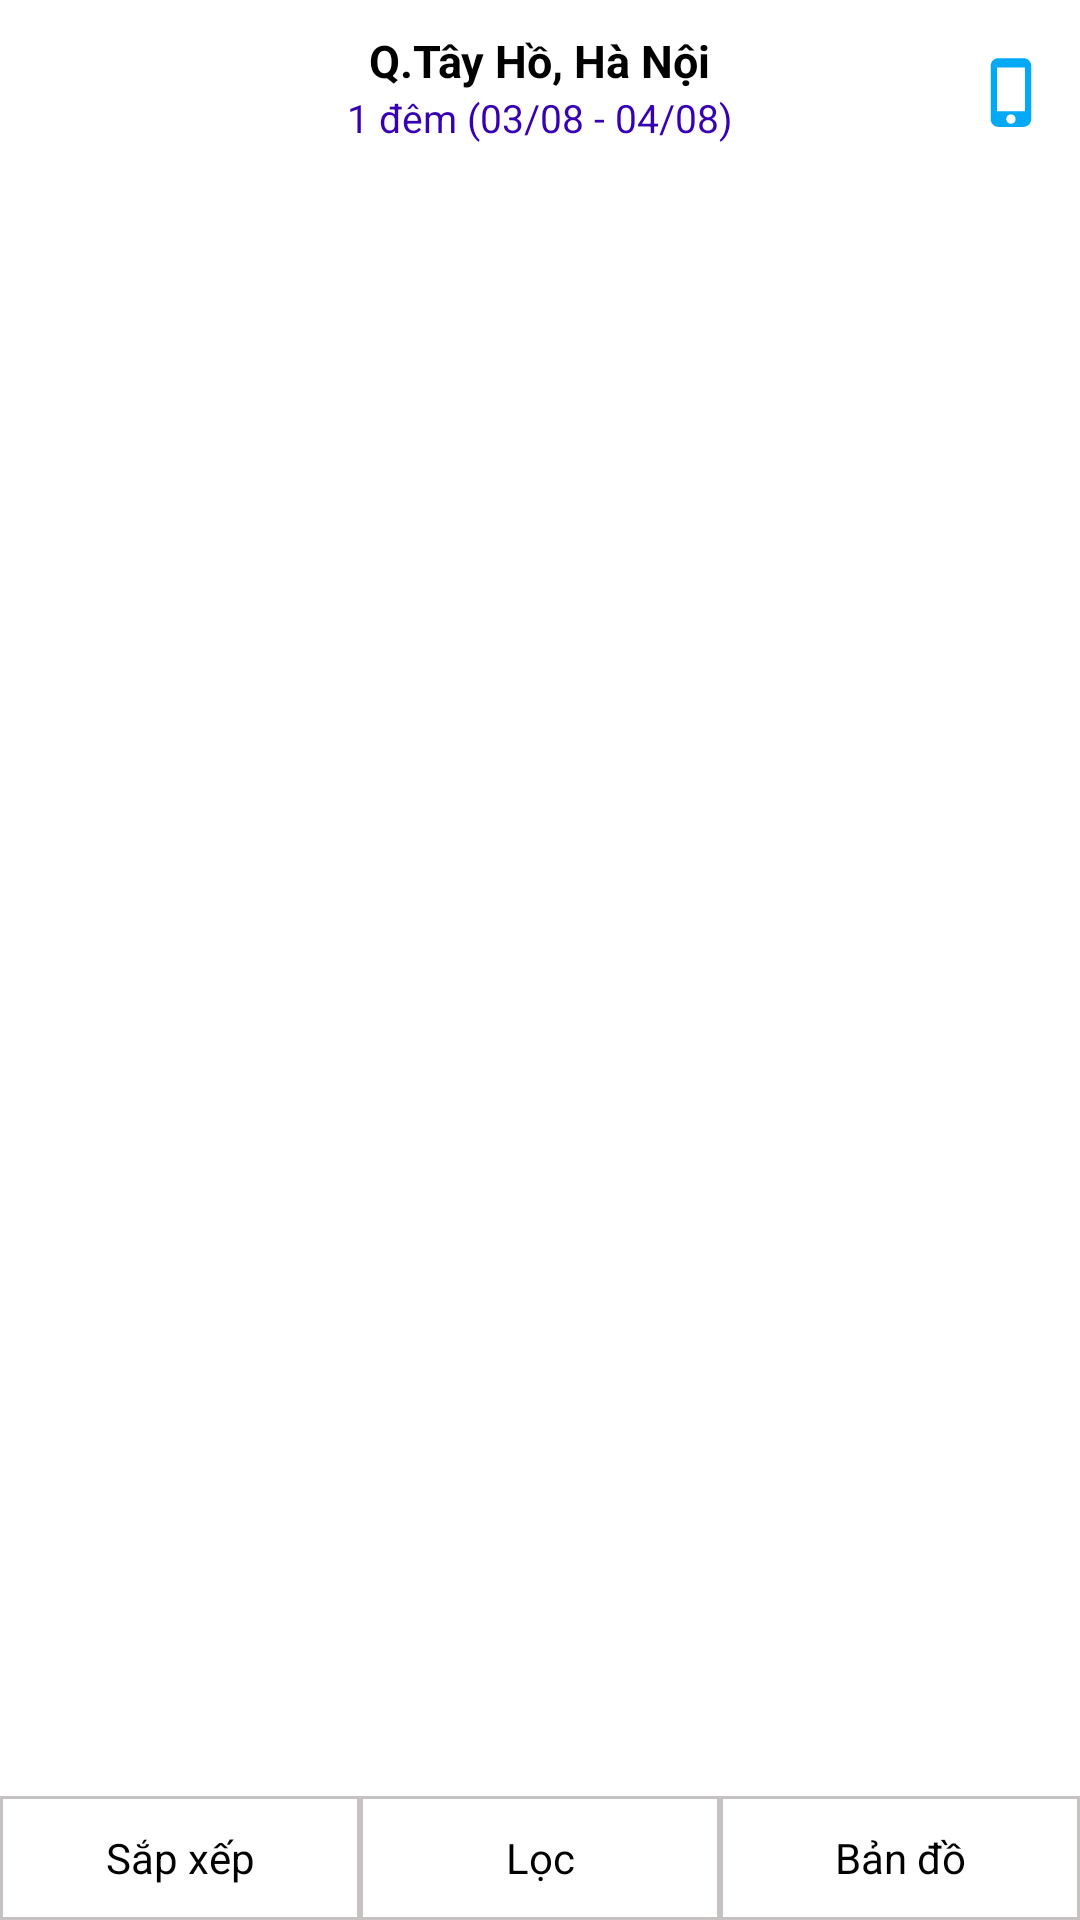

Where icons sit on this 1080w x 1920h app screen, as (x1, y1, x2, y2):
phone: (990, 58, 1032, 127)
